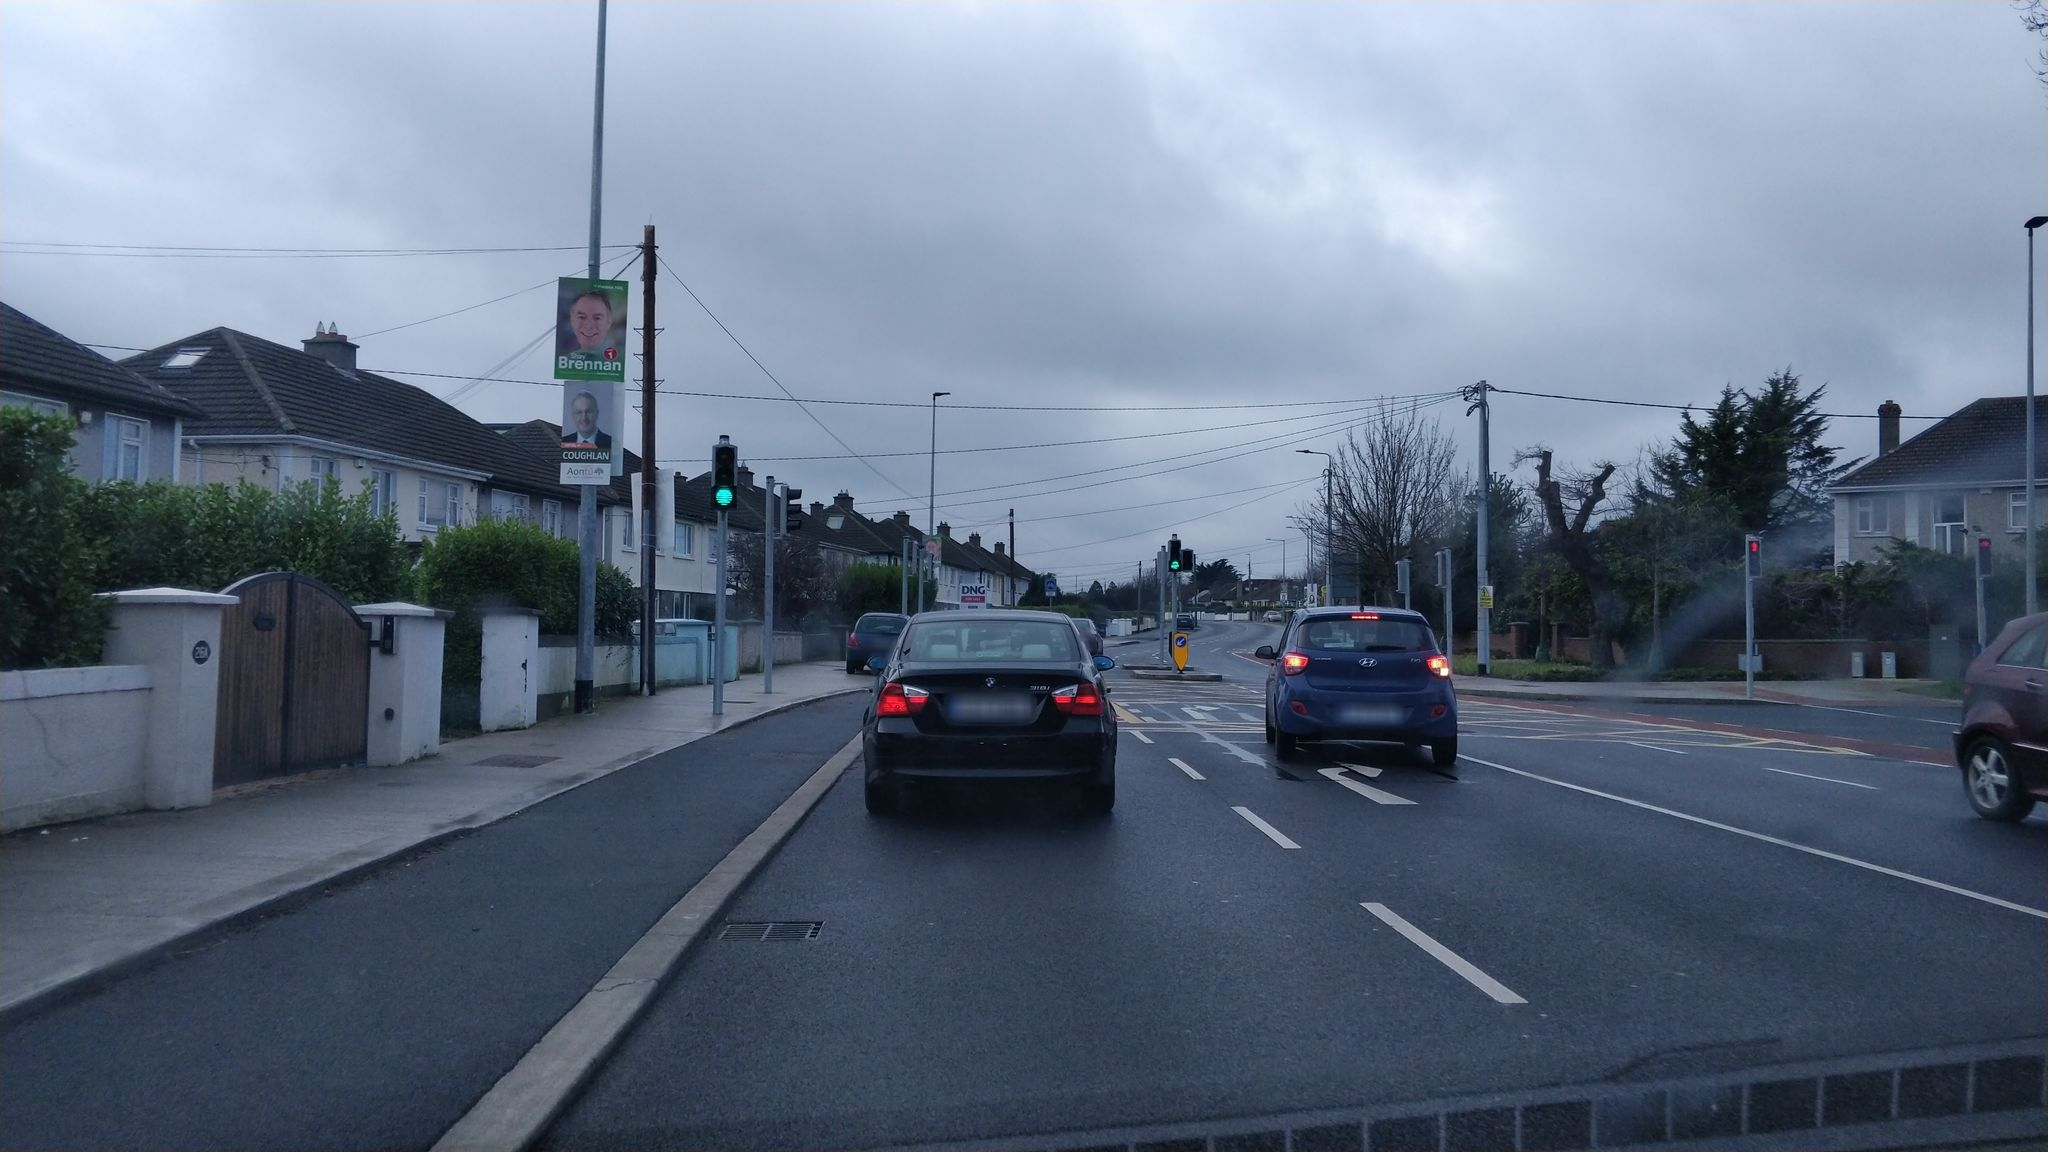property sign: (951, 567, 993, 627)
